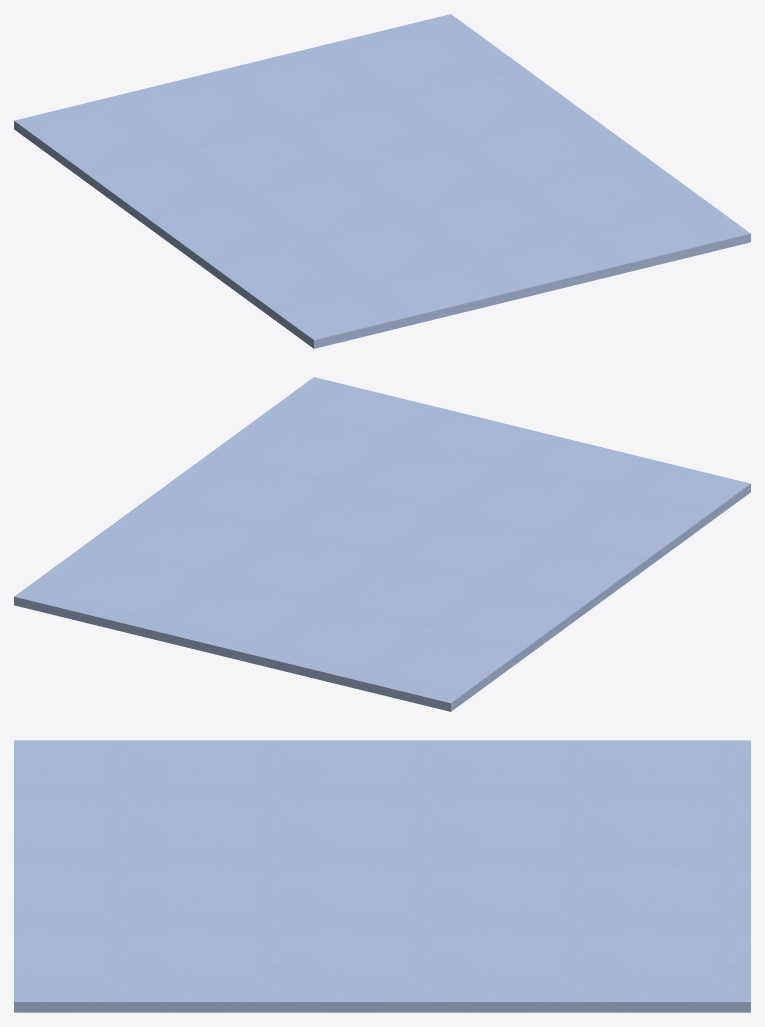
Rendered from InteriorCeiling.FBX.
The picture shows the model from 3 angles, top to bottom: view 1: azimuth 30°, elevation 25°; view 2: azimuth 150°, elevation 25°; view 3: azimuth 270°, elevation 25°; orthographic projection. The views are drawn at different scales.
Parts seen in each view (by area): view 1: InteriorCeiling; view 2: InteriorCeiling; view 3: InteriorCeiling.
Part boxes in pixels (x1=…): InteriorCeiling: x1=14, y1=14, x2=750, y2=348; InteriorCeiling: x1=14, y1=377, x2=750, y2=711; InteriorCeiling: x1=14, y1=740, x2=750, y2=1012.
Bounding box in the file's own units: 500 × 13.97 × 594.
